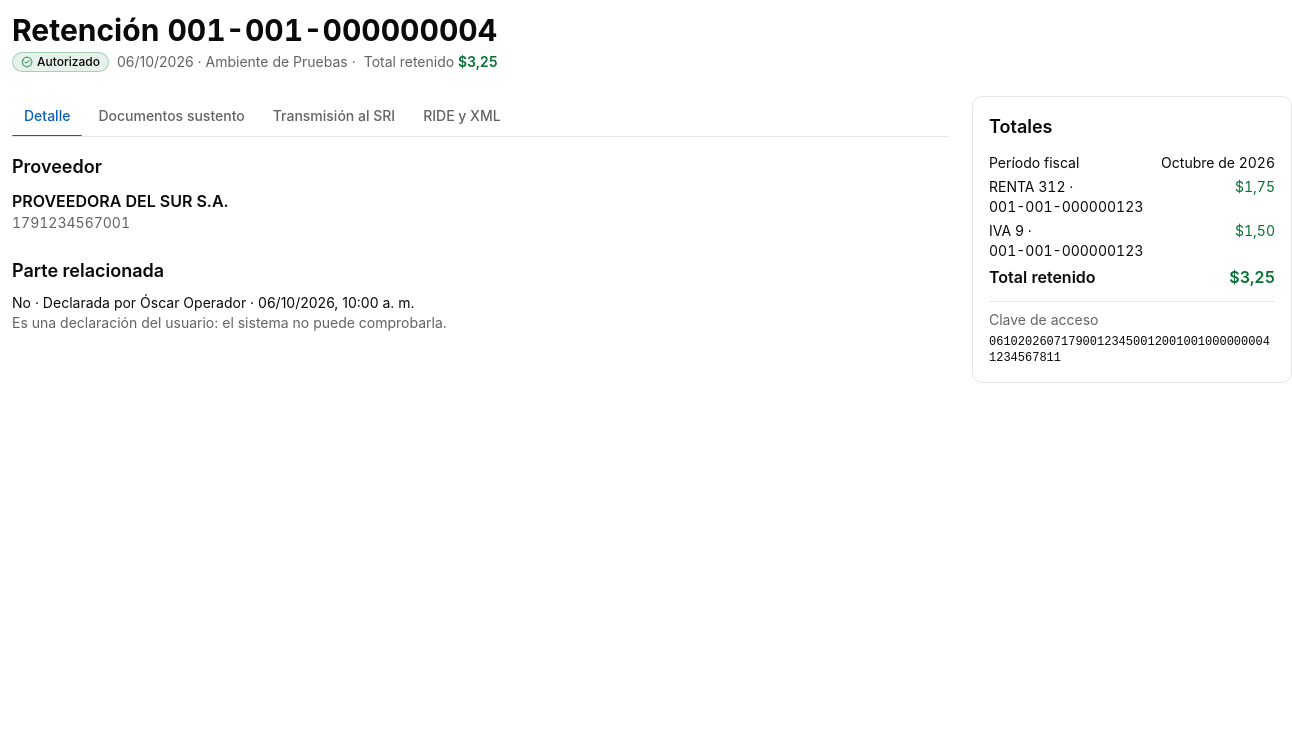
Test: detalle de la retención › muestra el proveedor, los documentos con sus retenciones, la parte relacionada declarada y el total
This screenshot has width=1292, height=732.
Expected: the heading "Retención 001-001-000000004" is shown, [12,12,498,48]
Expected: the text "PROVEEDORA DEL SUR S.A." is shown, [12,191,229,211]
Step 1. Click the tab "Documentos sustento" → {"x": 172, "y": 116}, box [86,96,257,136]
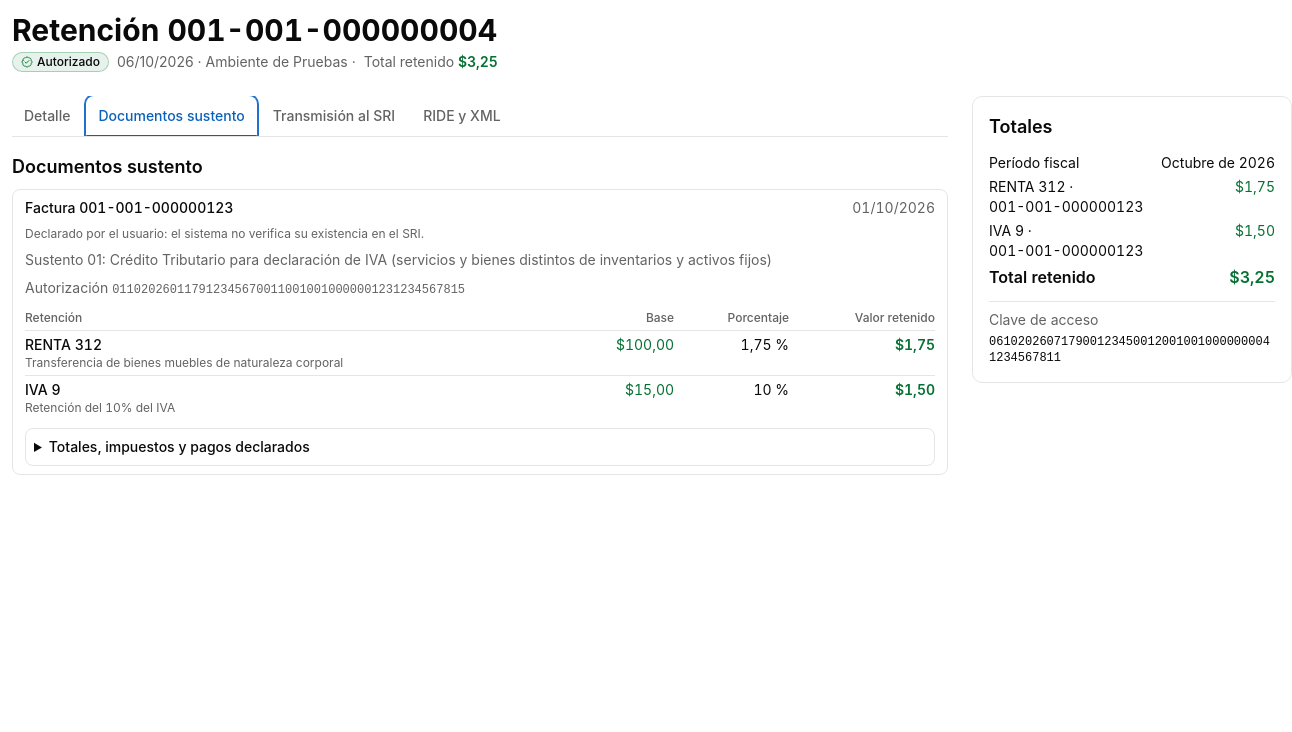
Expected: the text "Sustento 01: Crédito Tributario" is shown, [25,251,772,268]
Expected: the text "Declarado por el usuario: el sistema no verifica su existencia en el SRI." is shown, [25,226,424,241]
Expected: the text "RENTA 312" is shown, [25,336,102,353]
Step 2. Click the heading "Totales, impuestos y pagos declarados" → {"x": 179, "y": 446}, box [49,438,310,455]
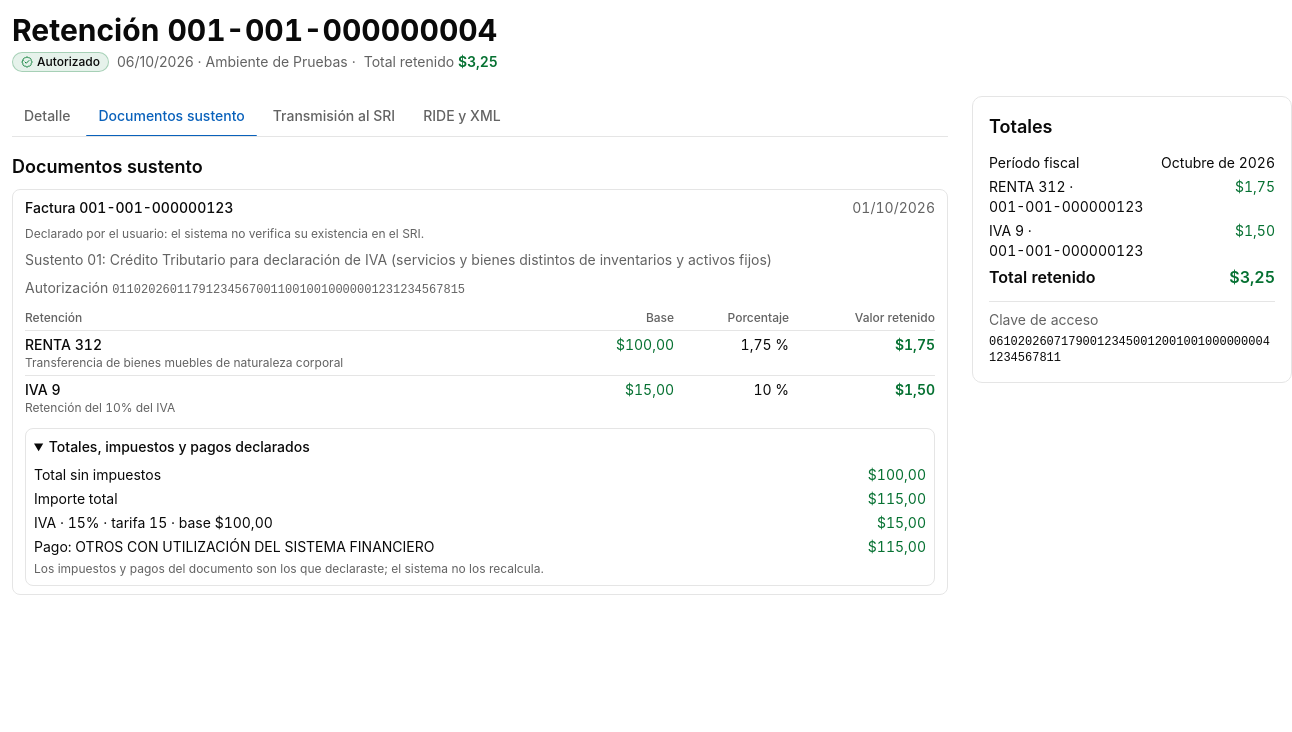
Expected: the text "IVA · 15% · tarifa 15 · base $100,00" is shown, [34,514,273,531]
Expected: the text "Pago: OTROS CON UTILIZACIÓN DEL SISTEMA FINANCIERO" is shown, [34,538,434,555]
Step 3. Click the tab "Detalle" → {"x": 47, "y": 116}, box [12,96,82,136]
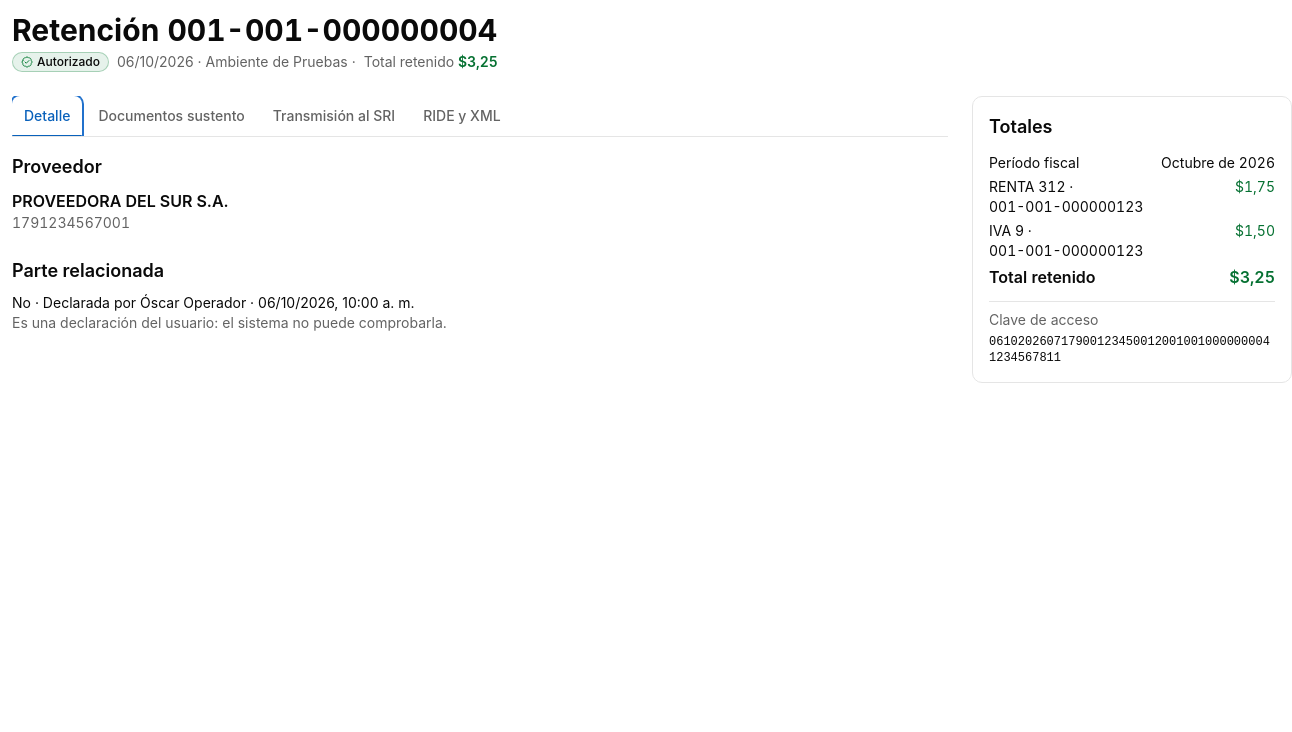
Expected: the text "Octubre de 2026" is shown, [1161,153,1275,173]
Expected: the text "No · Declarada por Óscar Operador · 06/10/2026, 10:00 a. m." is shown, [12,294,415,311]
Expected: the text "el sistema no puede comprobarla" is shown, [12,314,447,331]
Step 4. Click the tab "Transmisión al SRI" → {"x": 334, "y": 116}, box [261,96,407,136]
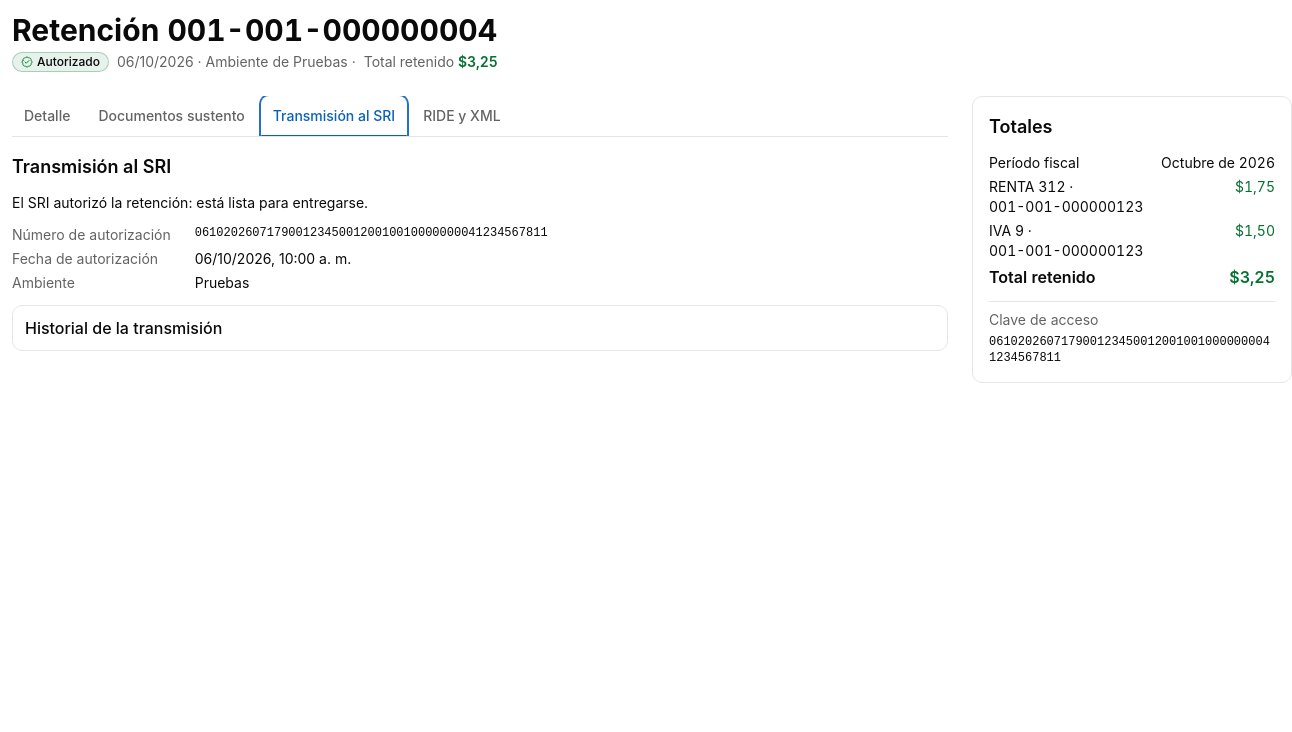
Expected: the text "El SRI autorizó la retención: está lista para entregarse." is shown, [12,194,368,211]
Step 5. Click the tab "RIDE y XML" → {"x": 462, "y": 116}, box [411,96,513,136]
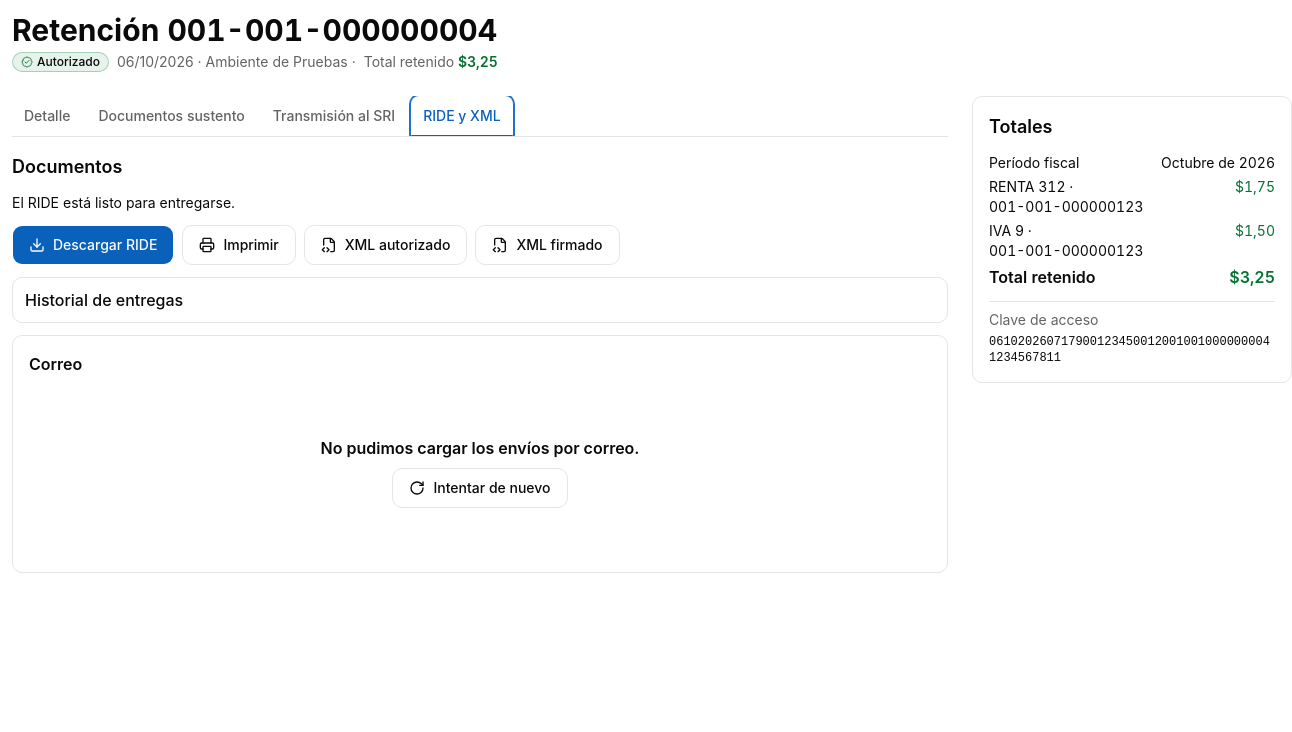
Expected: the button "Descargar RIDE" is shown, [12,225,174,265]
